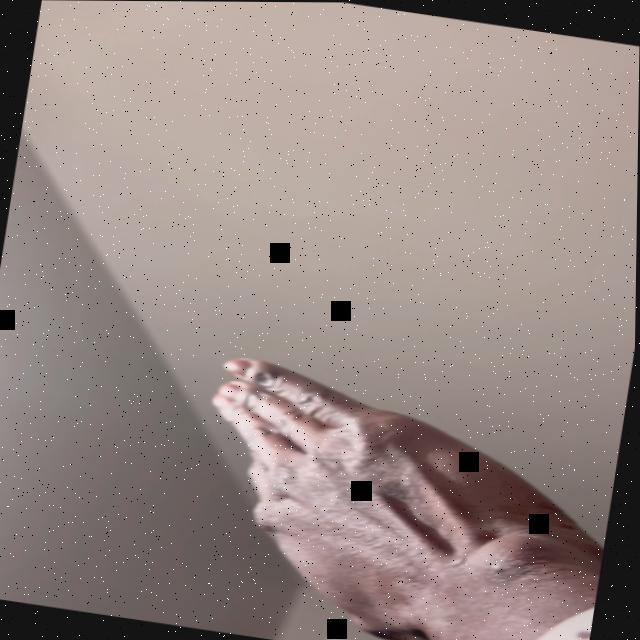Paper: (181, 350, 607, 640)
